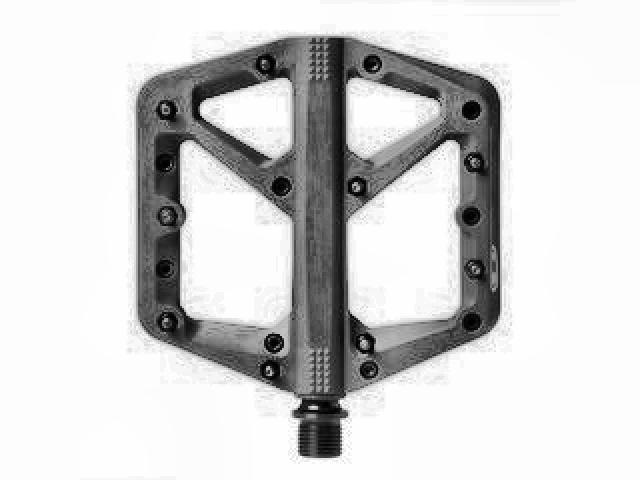pedal: (130, 33, 506, 461)
